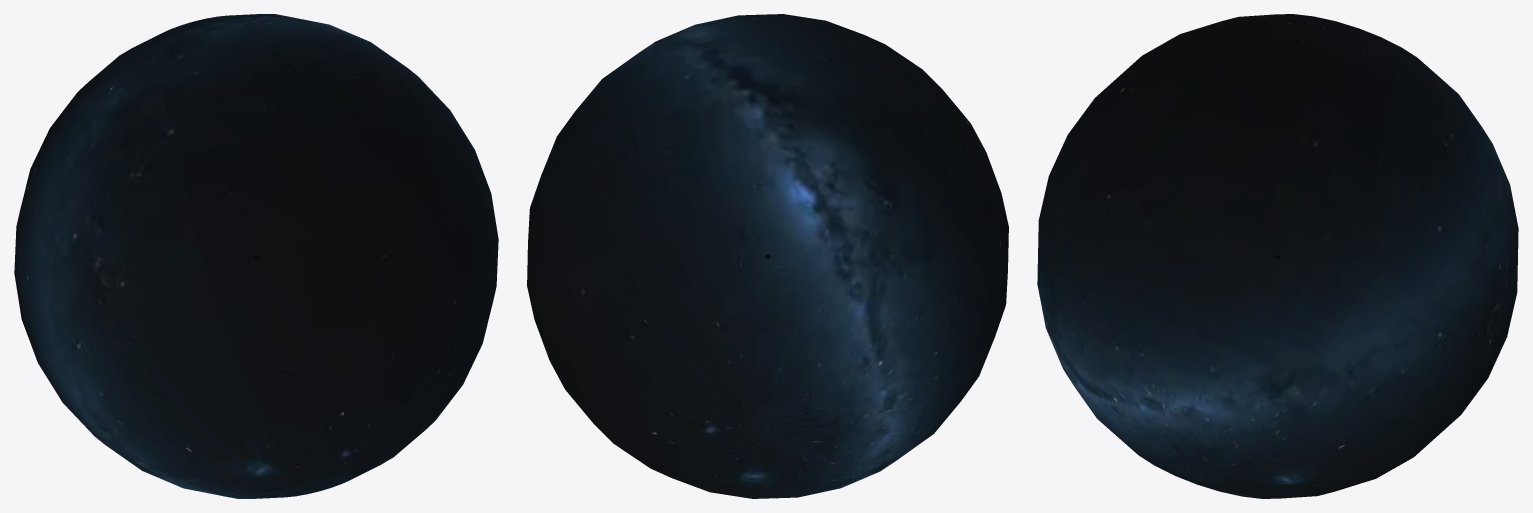
File: night_sky-transformed.glb
The picture shows the model from 3 angles, left to right: view 1: azimuth 30°, elevation 25°; view 2: azimuth 150°, elevation 25°; view 3: azimuth 270°, elevation 25°; orthographic projection.
Parts seen in each view (by area): view 1: Object_4; view 2: Object_4; view 3: Object_4.
Boxes of the visible parts, box(x1,y1,x2,y2) form: Object_4: box(14, 14, 498, 498); Object_4: box(527, 14, 1008, 498); Object_4: box(1037, 14, 1518, 498).
Bounding box in the file's own units: 61.06 × 61.4 × 60.9.
3 materials, 2 textured.
